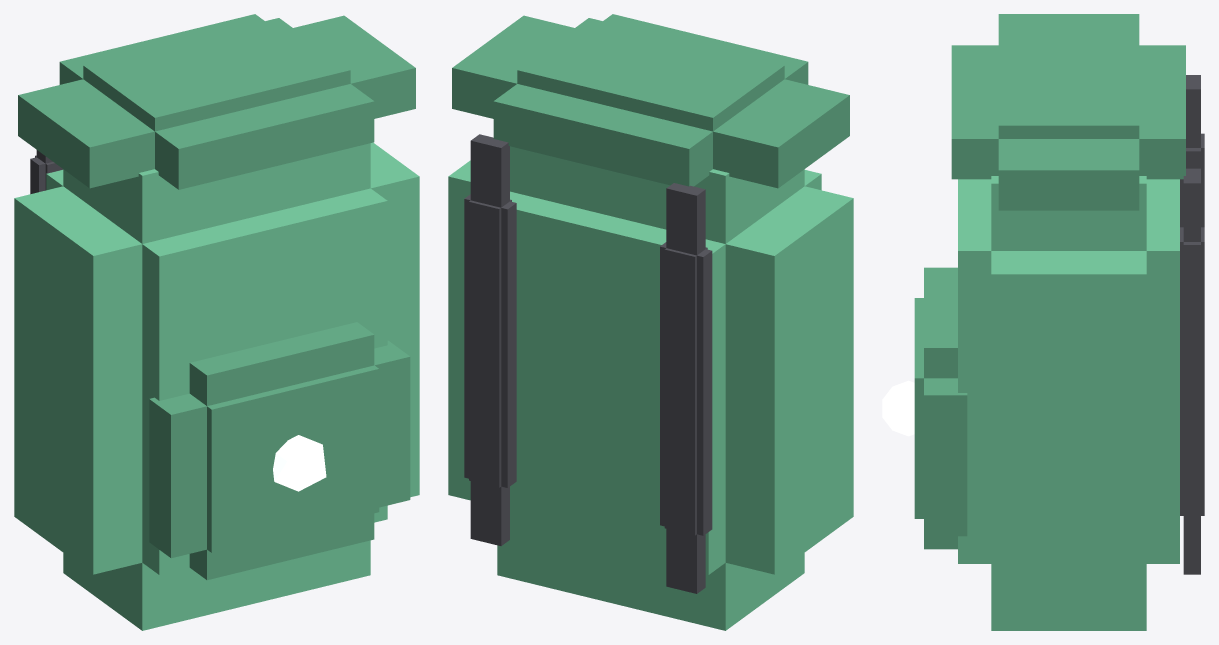
The model's file is equip_backpack_2.glb.
3 renders of one model, left to right at view 1: azimuth 30°, elevation 25°; view 2: azimuth 150°, elevation 25°; view 3: azimuth 270°, elevation 25°, orthographic.
Visible parts, largest first — view 1: box; view 2: box; view 3: box.
Boxes of the visible parts, left/top/right/bottom form: box: left=14, top=14, right=419, bottom=630; box: left=448, top=14, right=853, bottom=630; box: left=882, top=14, right=1204, bottom=630.
Bounding box in the file's own units: 0.6 × 0.89 × 0.5225.
